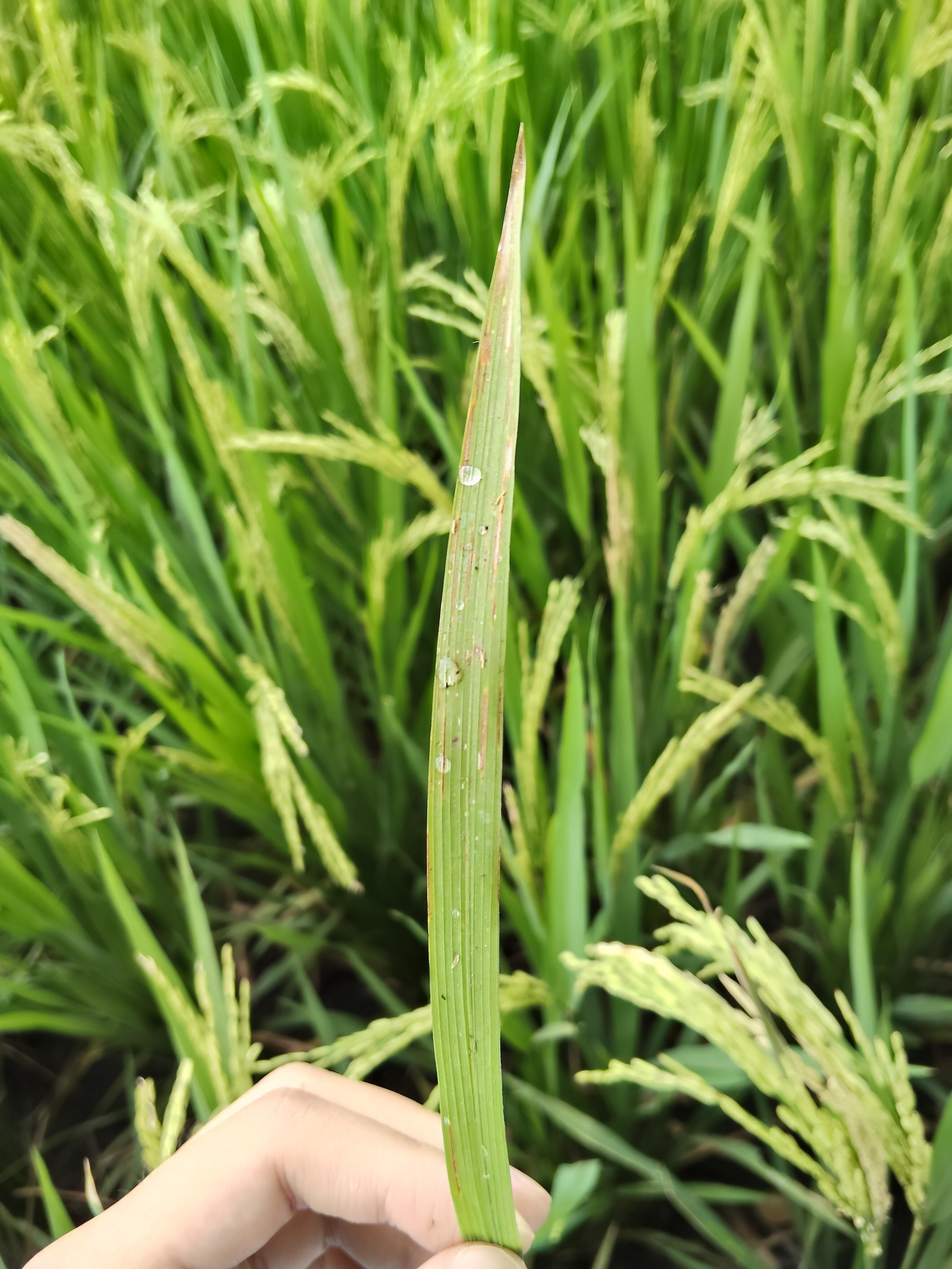NBS: (476, 686, 489, 770), (465, 530, 475, 592), (450, 566, 459, 618), (492, 602, 496, 624), (438, 688, 441, 710)
